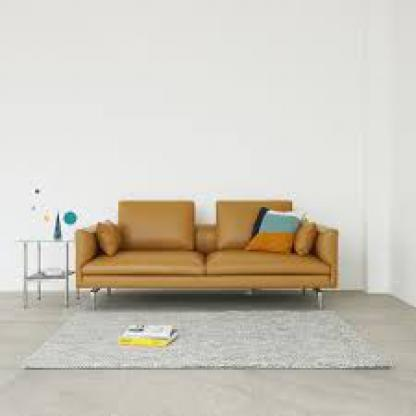sofa: (76, 198, 362, 312)
